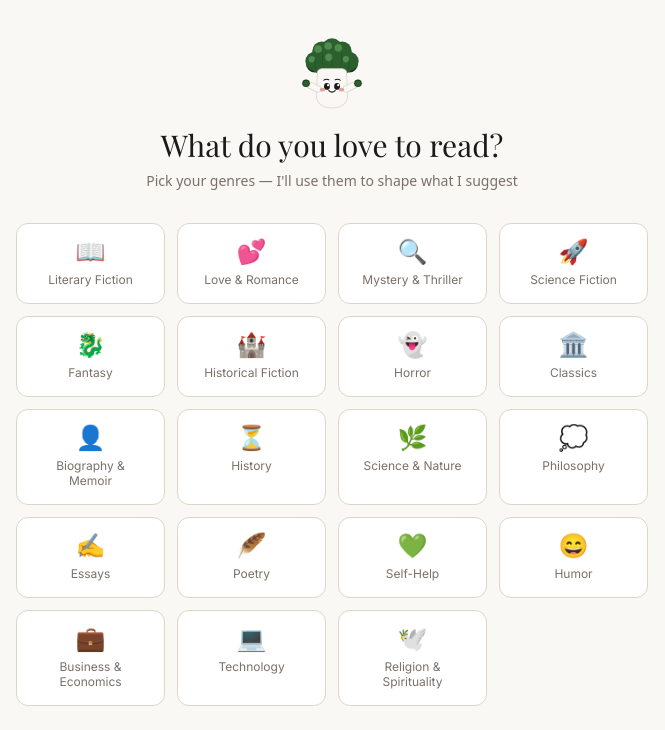
Onboarding › gates "Continue" until at least one genre is selected
Click the button "📖 Literary Fiction".
click(90, 264)  # box x1=16 y1=223 x2=165 y2=304
(page scrolled)
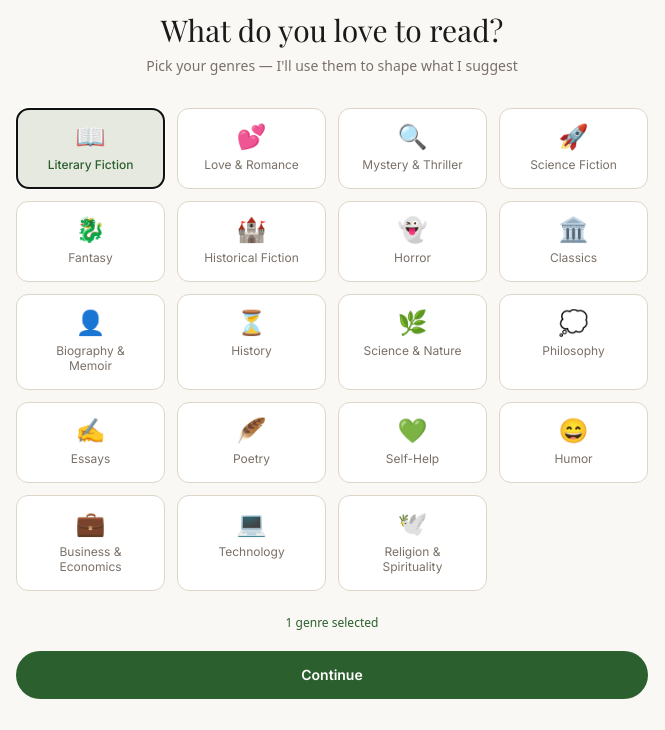
Expected: the button "Continue" is enabled, x1=16 y1=651 x2=648 y2=699
